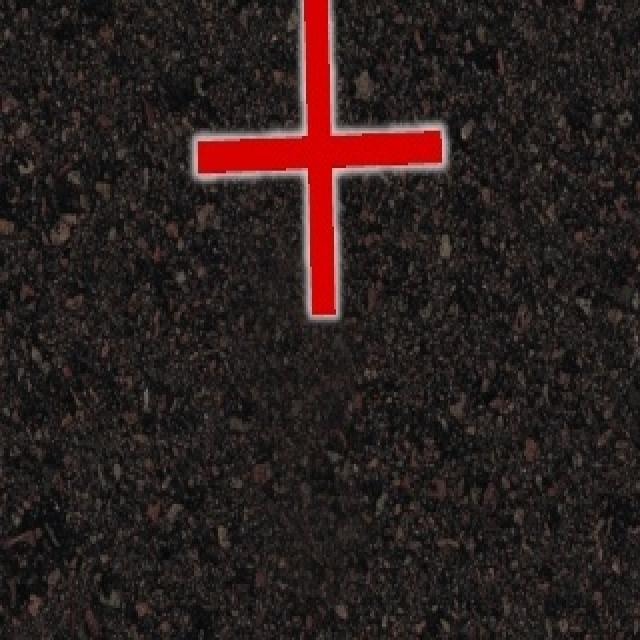x_marker: (195, 0, 443, 315)
